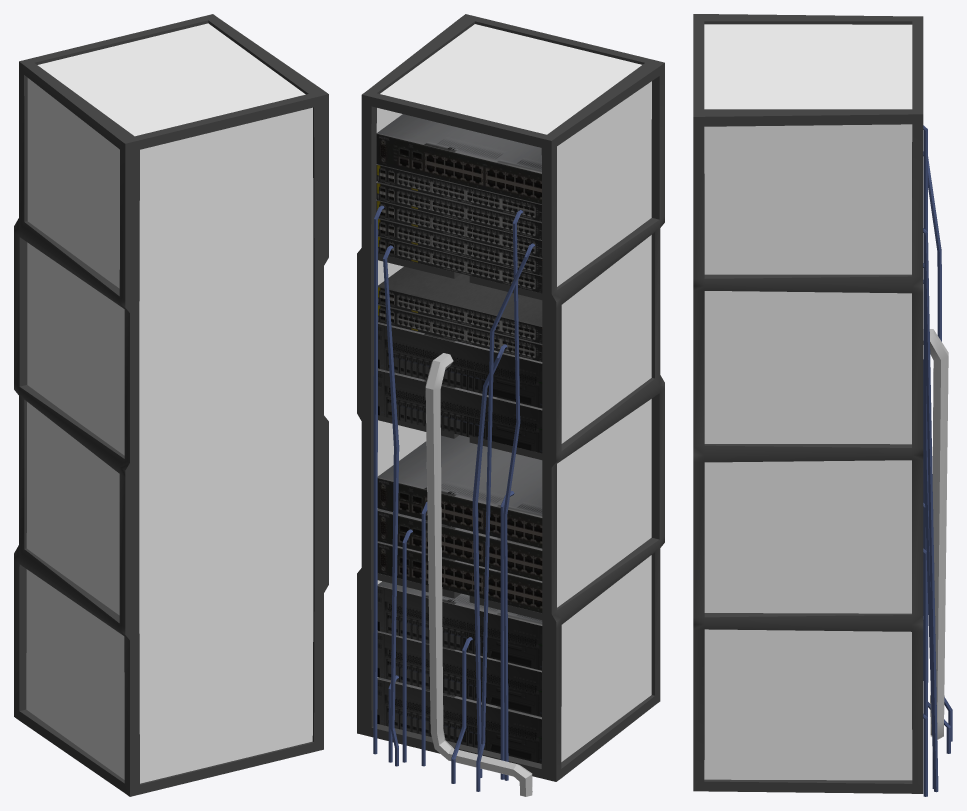
File: object_server_varA_20220516.fbx
3 renders of one model, left to right at view 1: azimuth 30°, elevation 25°; view 2: azimuth 150°, elevation 25°; view 3: azimuth 270°, elevation 25°, orthographic. The views are drawn at different scales.
Parts seen in each view (by area): view 1: server_grass, server_frame; view 2: server_grass, server_frame, device_host_4, device_host_1, cable_powercord, device_switchB_7, device_switch_5, device_switch_1, device_switch_4, device_switch_2, device_switch_3, device_host_2 (+16 smaller); view 3: server_grass, server_frame, cable_powercord, cable_net_2, cable_net_3, cable_net_8, cable_net_6, cable_net_1.
Part boxes in pixels (box(x1,y1,x2,y2)): server_grass: box(26, 23, 313, 783); server_frame: box(14, 14, 328, 796); server_grass: box(376, 24, 651, 761); server_frame: box(357, 14, 664, 781); device_host_4: box(377, 435, 542, 548); device_host_1: box(376, 114, 541, 204); cable_powercord: box(425, 353, 532, 796); device_switchB_7: box(378, 266, 542, 343); device_switch_5: box(378, 322, 542, 408); device_switch_1: box(377, 581, 542, 670); device_switch_4: box(378, 368, 542, 453); device_switch_2: box(377, 677, 541, 763); device_switch_3: box(377, 631, 541, 716); device_host_2: box(377, 508, 542, 580); server_grass: box(704, 24, 912, 780); server_frame: box(693, 14, 923, 793); cable_powercord: box(923, 329, 948, 739); cable_net_2: box(923, 228, 938, 792); cable_net_3: box(923, 263, 933, 788); cable_net_8: box(923, 151, 952, 741); cable_net_6: box(923, 548, 927, 717); cable_net_1: box(923, 125, 927, 263).
Bounding box in the file's own units: 0.4235 × 1.34 × 0.4509.
Materials: 7 (3 with a texture image).
